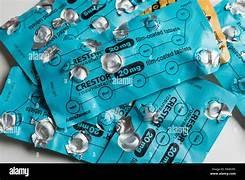pill_Strip: (35, 1, 218, 126), (44, 79, 235, 162), (0, 0, 155, 83), (99, 79, 235, 162), (0, 1, 66, 83), (47, 106, 129, 162), (0, 66, 52, 143), (0, 66, 50, 141), (214, 0, 244, 115), (69, 0, 155, 38), (198, 0, 229, 63), (143, 0, 176, 13)
